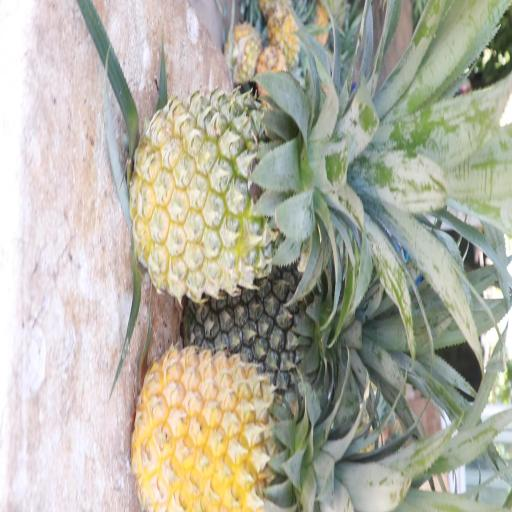------------------------------: (136, 91, 326, 296)
Pineapple - v8 v1: (137, 344, 313, 512)
